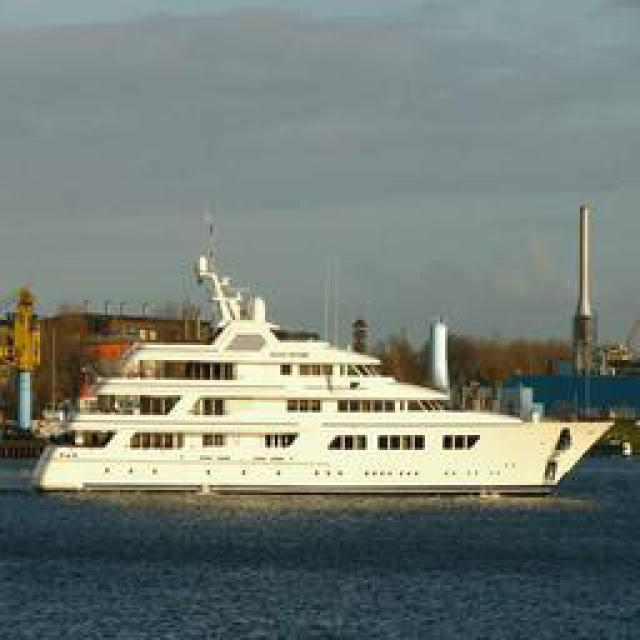Ship: (27, 230, 610, 503)
